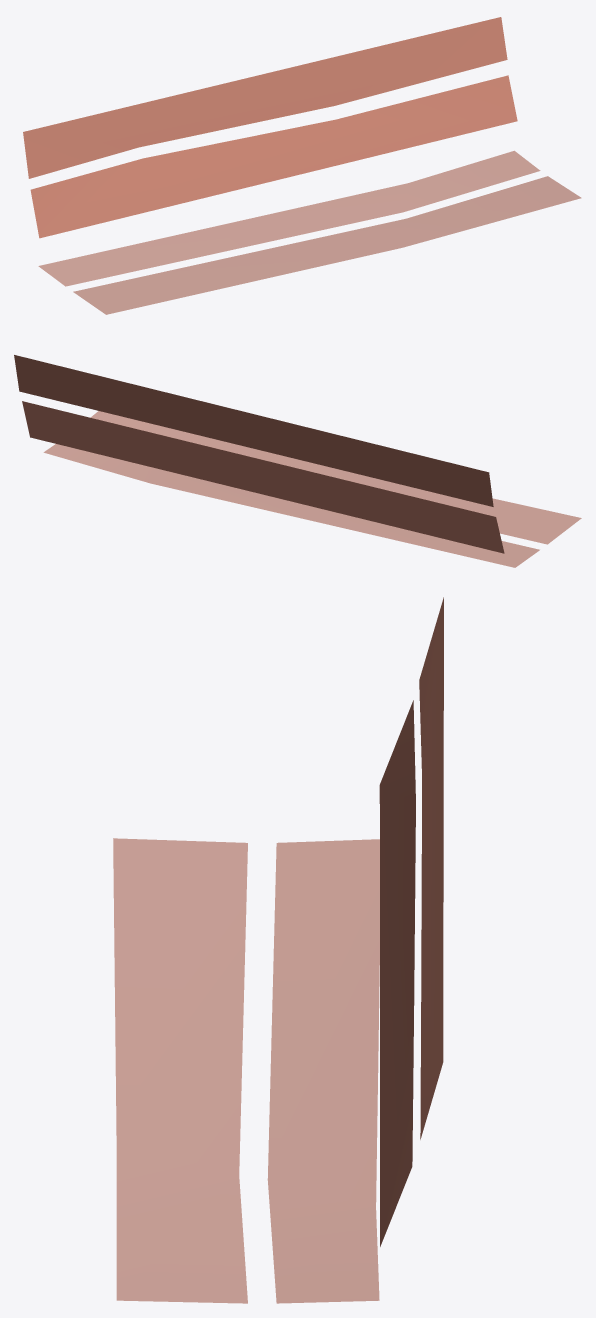
File: TownBenchWood_0.glb
The picture shows the model from 3 angles, top to bottom: view 1: azimuth 30°, elevation 25°; view 2: azimuth 150°, elevation 25°; view 3: azimuth 270°, elevation 25°; orthographic projection. The views are drawn at different scales.
Parts seen in each view (by area): view 1: TownBenchWood; view 2: TownBenchWood; view 3: TownBenchWood.
Boxes of the visible parts, x1,y1,x2,y2 form: TownBenchWood: (23, 17, 581, 314); TownBenchWood: (14, 355, 581, 567); TownBenchWood: (113, 597, 443, 1303).
Bounding box in the file's own units: 1.78 × 0.459 × 0.5963.
